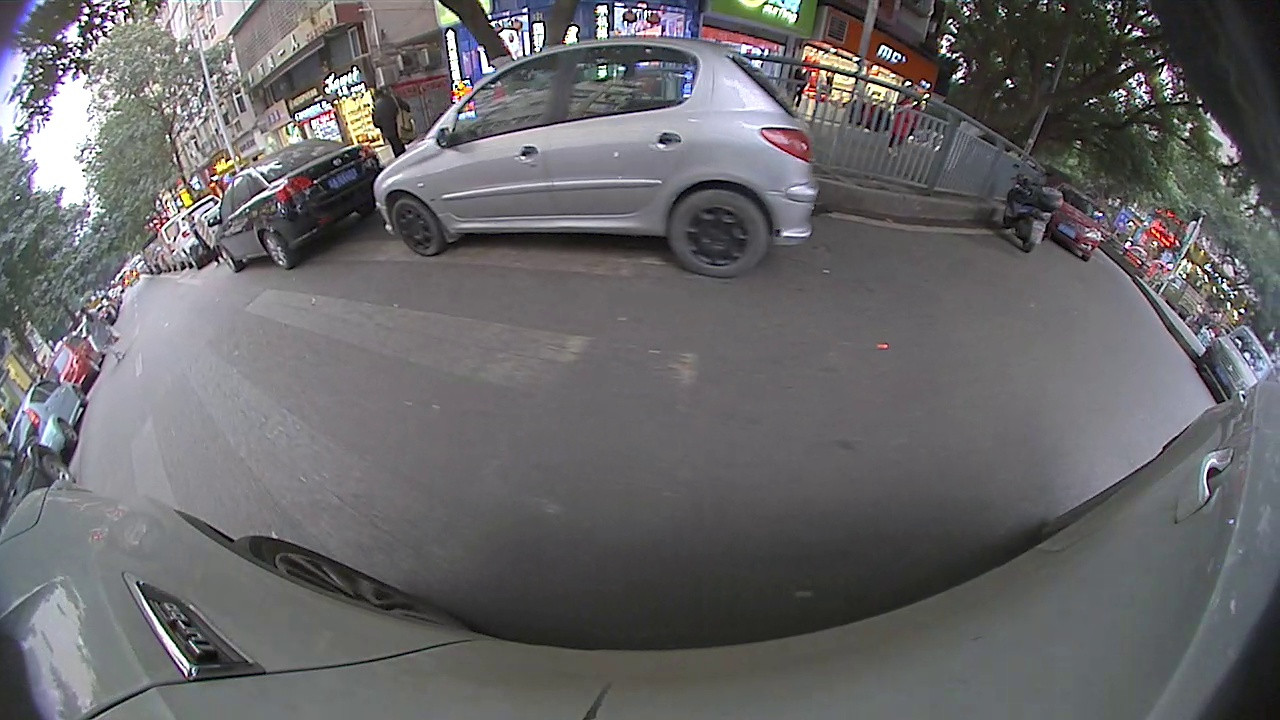car: (373, 36, 815, 280), (210, 142, 377, 275), (9, 381, 87, 459), (1199, 327, 1272, 403), (0, 444, 75, 517), (1048, 179, 1105, 261), (46, 337, 98, 393)
front: (387, 196, 446, 259), (43, 456, 73, 487)
person: (369, 88, 398, 164), (80, 307, 101, 368)
rear: (670, 186, 774, 275), (256, 231, 294, 269), (59, 418, 79, 445)
rider: (1001, 160, 1056, 251)
